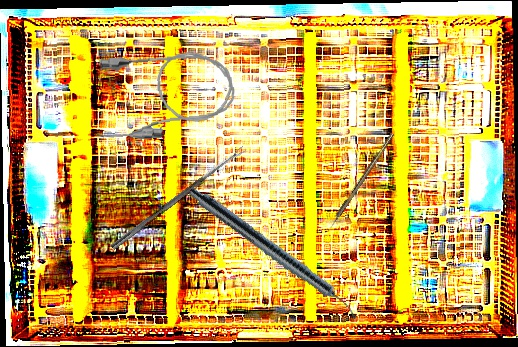Cannula: (88, 45, 240, 145)
Handpiece: (182, 183, 364, 322)
Hook Surgical: (325, 132, 396, 232)
Surgical Spoon: (110, 146, 247, 251)
